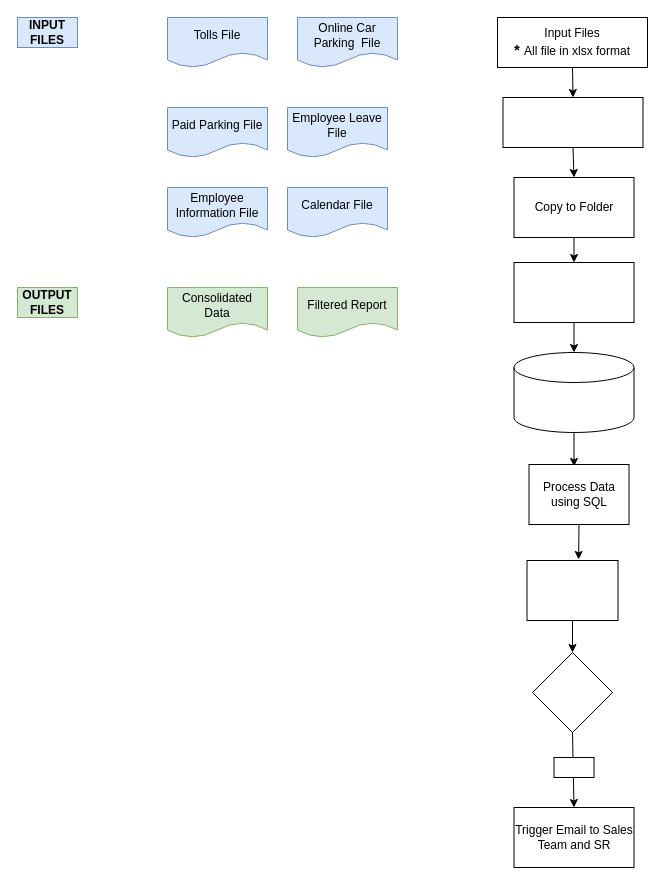
This 665x885 diagram has some shape labels left out. The shapes that lost their labels are listed below. From the top down, each one's centre as x and y in pixels, then its label:
pixel 572 122: Convert Files to csv format
pixel 573 292: Informatica
pixel 573 392: Store Files as DB Tables
pixel 572 590: Store Data in Share Point
pixel 572 692: Over usage
pixel 573 767: Yes
